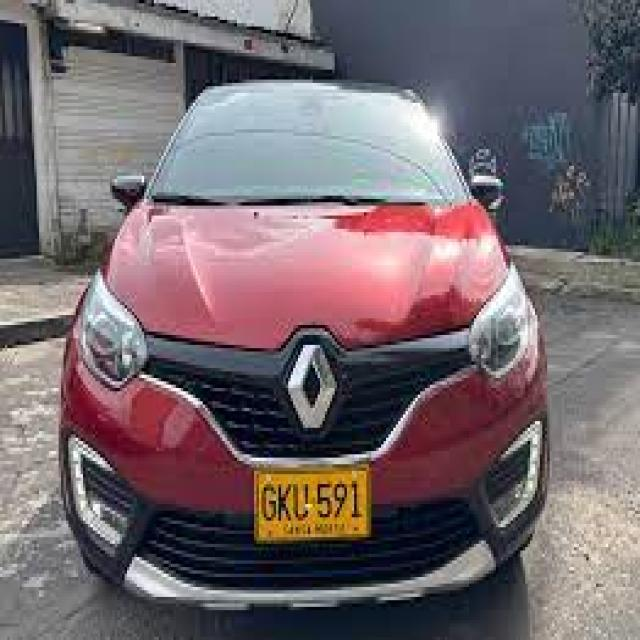placa_carro: (254, 463, 372, 549)
